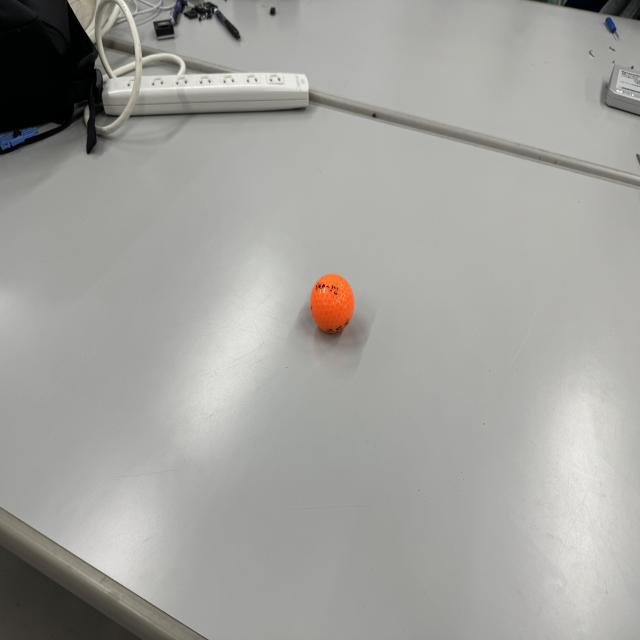ball: (309, 272, 355, 335)
